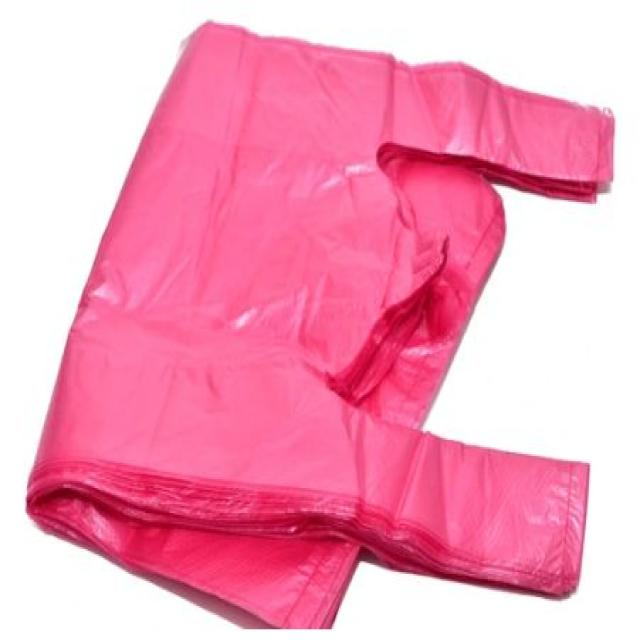general: (24, 18, 616, 629)
